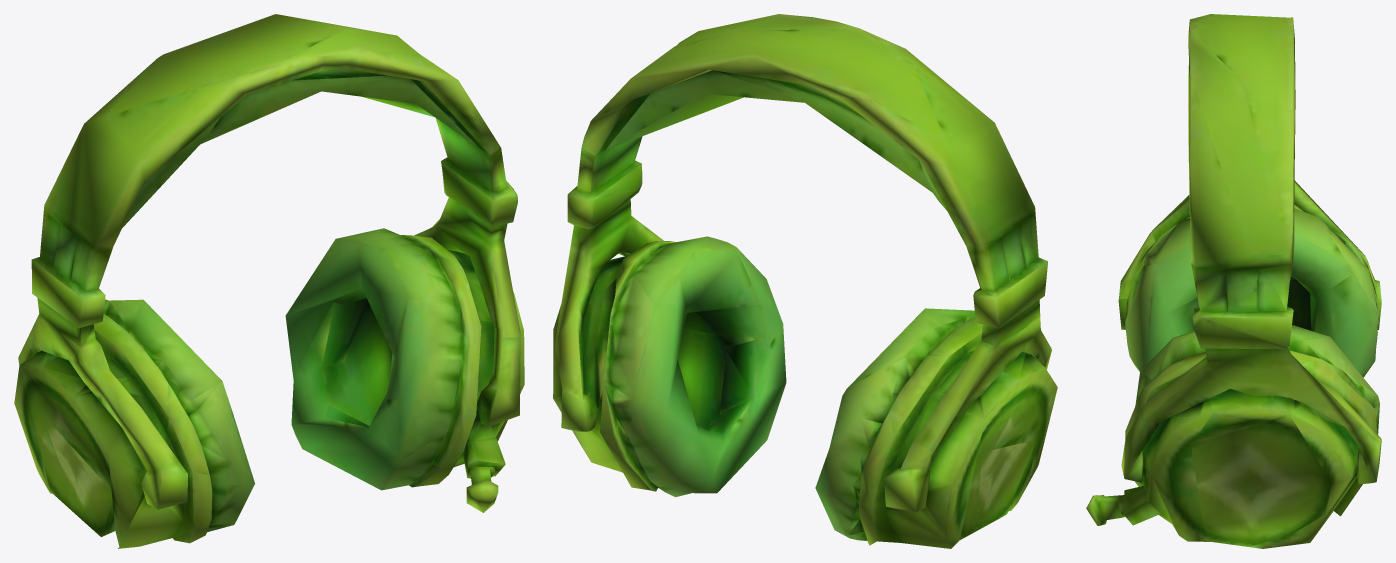
3 renders of one model, left to right at view 1: azimuth 30°, elevation 25°; view 2: azimuth 150°, elevation 25°; view 3: azimuth 270°, elevation 25°, orthographic. The views are drawn at different scales.
Visible parts, largest first — view 1: material; view 2: material; view 3: material.
Part boxes in pixels (left/top/right/bottom): material: left=14, top=14, right=524, bottom=548; material: left=553, top=14, right=1057, bottom=548; material: left=1086, top=14, right=1381, bottom=548.
Size of the model in its own units: 0.8781 by 0.8508 by 0.5372.
1 material, 1 textured.
